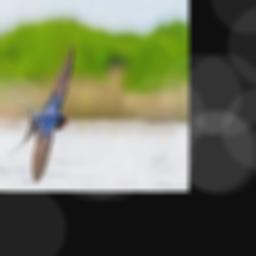Swallow: (7, 43, 73, 182)
